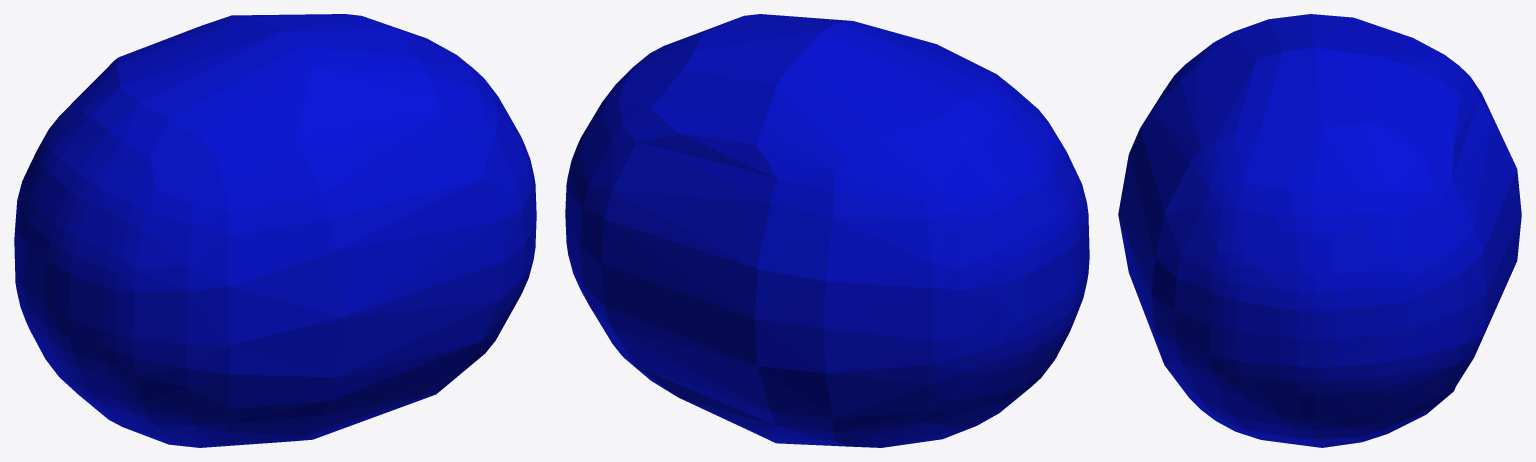
The model's file is COL_hollie_real.011.dae.
3 renders of one model, left to right at view 1: azimuth 30°, elevation 25°; view 2: azimuth 150°, elevation 25°; view 3: azimuth 270°, elevation 25°, orthographic. The views are drawn at different scales.
Parts seen in each view (by area): view 1: COL_COL_COL_VIS_VIS_VIS_VIS_VIS_VIS_VIS_VIS_VIS_hollie_real_; view 2: COL_COL_COL_VIS_VIS_VIS_VIS_VIS_VIS_VIS_VIS_VIS_hollie_real_; view 3: COL_COL_COL_VIS_VIS_VIS_VIS_VIS_VIS_VIS_VIS_VIS_hollie_real_.
Part boxes in pixels (x1,y1,x2,y2): COL_COL_COL_VIS_VIS_VIS_VIS_VIS_VIS_VIS_VIS_VIS_hollie_real_: [14, 14, 536, 447]; COL_COL_COL_VIS_VIS_VIS_VIS_VIS_VIS_VIS_VIS_VIS_hollie_real_: [565, 14, 1089, 447]; COL_COL_COL_VIS_VIS_VIS_VIS_VIS_VIS_VIS_VIS_VIS_hollie_real_: [1118, 14, 1521, 447].
Size of the model in its own units: 0.0761 by 0.0602 by 0.0614.
